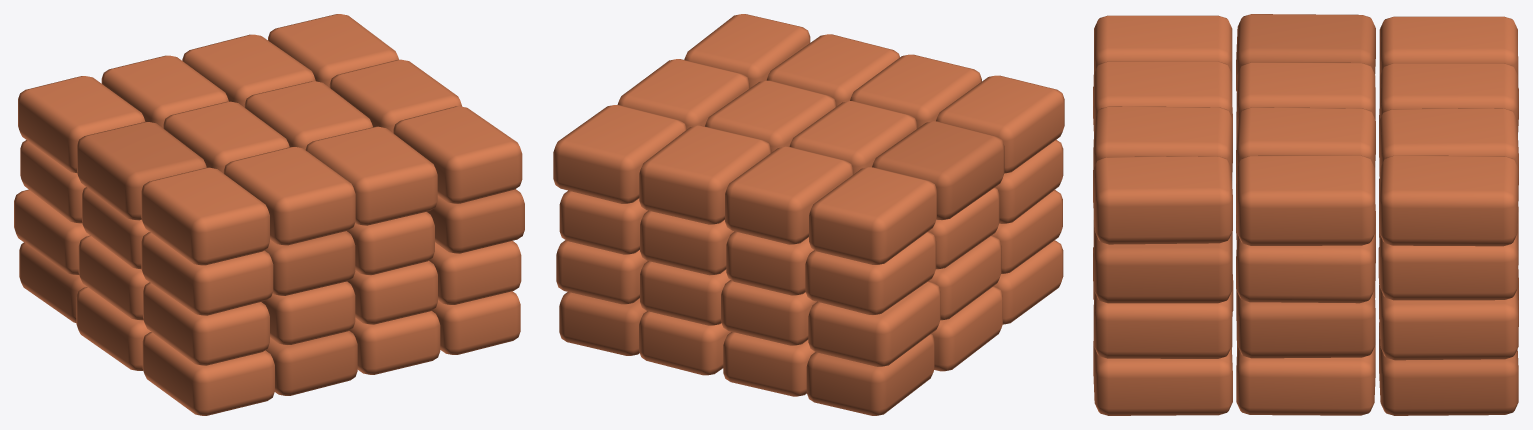
Rendered from BSC-23.glb.
3 renders of one model, left to right at view 1: azimuth 30°, elevation 25°; view 2: azimuth 150°, elevation 25°; view 3: azimuth 270°, elevation 25°, orthographic. The views are drawn at different scales.
Parts seen in each view (by area): view 1: handmade block.036, handmade block.039, handmade block.045, handmade block.042, handmade block.037, handmade block.038, handmade block, handmade block.024, handmade block.012, handmade block.046, handmade block.044, handmade block.047 (+18 smaller); view 2: handmade block.038, handmade block.044, handmade block.047, handmade block.041, handmade block.037, handmade block.036, handmade block.014, handmade block.026, handmade block.002, handmade block.046, handmade block.039, handmade block.043 (+18 smaller); view 3: handmade block.046, handmade block.047, handmade block.045, handmade block.023, handmade block.033, handmade block.010, handmade block.009, handmade block.034, handmade block.011, handmade block.021, handmade block.022, handmade block.035 (+9 smaller).
Part boxes in pixels (x1,y1,x2,y2): handmade block.036: [141, 167, 269, 265]; handmade block.039: [223, 147, 355, 245]; handmade block.045: [393, 106, 522, 203]; handmade block.042: [305, 126, 437, 225]; handmade block.037: [77, 122, 206, 220]; handmade block.038: [18, 76, 145, 173]; handmade block: [142, 332, 274, 415]; handmade block.024: [141, 232, 273, 315]; handmade block.012: [143, 282, 269, 365]; handmade block.046: [329, 59, 462, 132]; handmade block.044: [182, 34, 315, 107]; handmade block.047: [268, 14, 398, 87]; handmade block.038: [809, 167, 936, 264]; handmade block.044: [639, 125, 771, 224]; handmade block.047: [553, 105, 686, 203]; handmade block.041: [725, 146, 853, 244]; handmade block.037: [872, 121, 1004, 220]; handmade block.036: [936, 75, 1064, 173]; handmade block.014: [808, 281, 940, 366]; handmade block.026: [805, 231, 936, 315]; handmade block.002: [806, 334, 934, 415]; handmade block.046: [617, 59, 749, 129]; handmade block.039: [850, 54, 981, 128]; handmade block.043: [705, 80, 836, 152]; handmade block.046: [1236, 155, 1375, 245]; handmade block.047: [1379, 155, 1518, 246]; handmade block.045: [1093, 156, 1232, 244]; handmade block.023: [1379, 283, 1518, 360]; handmade block.033: [1094, 227, 1232, 303]; handmade block.010: [1236, 345, 1375, 415]; handmade block.009: [1093, 341, 1232, 415]; handmade block.034: [1236, 226, 1375, 303]; handmade block.011: [1379, 338, 1518, 415]; handmade block.021: [1093, 283, 1232, 358]; handmade block.022: [1236, 286, 1375, 358]; handmade block.035: [1379, 226, 1518, 300].
Size of the model in its own units: 1.93 by 1.09 by 1.85.
